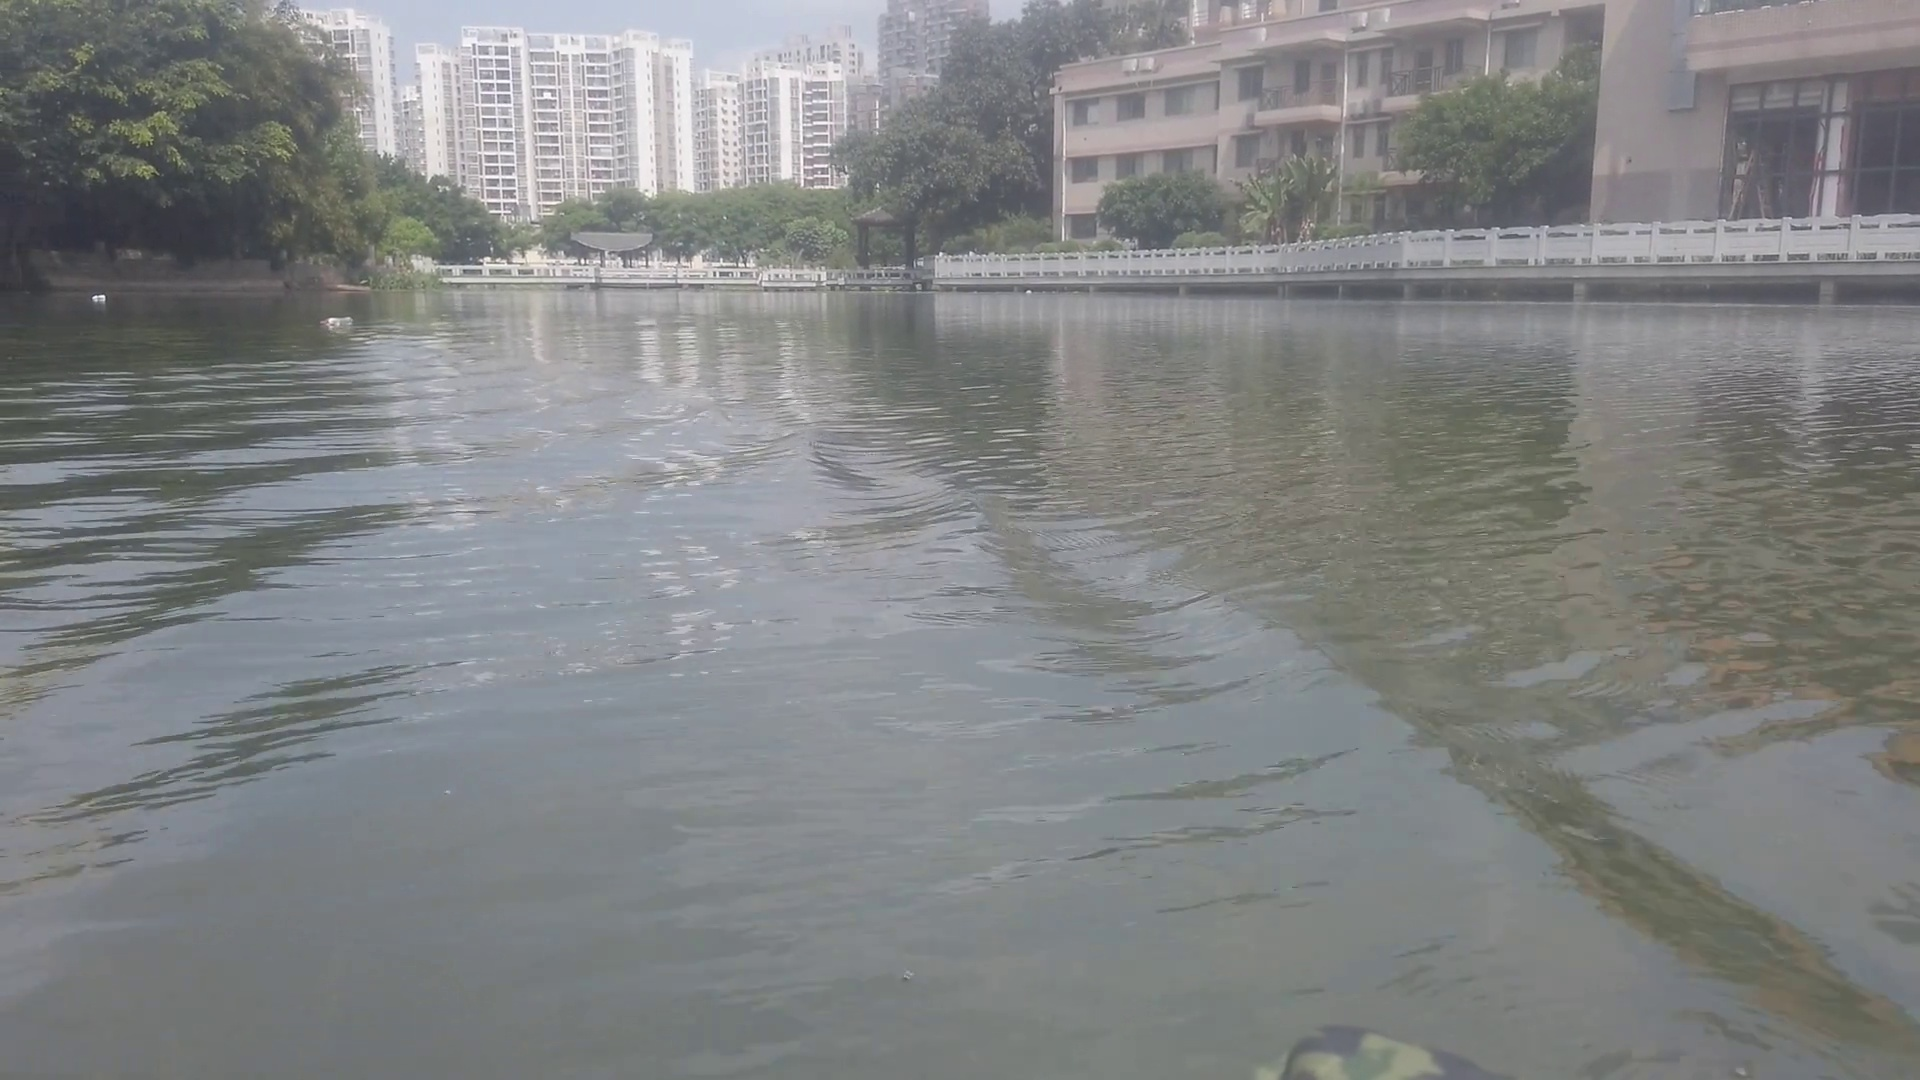bottle: (319, 314, 356, 324), (90, 291, 109, 302)
